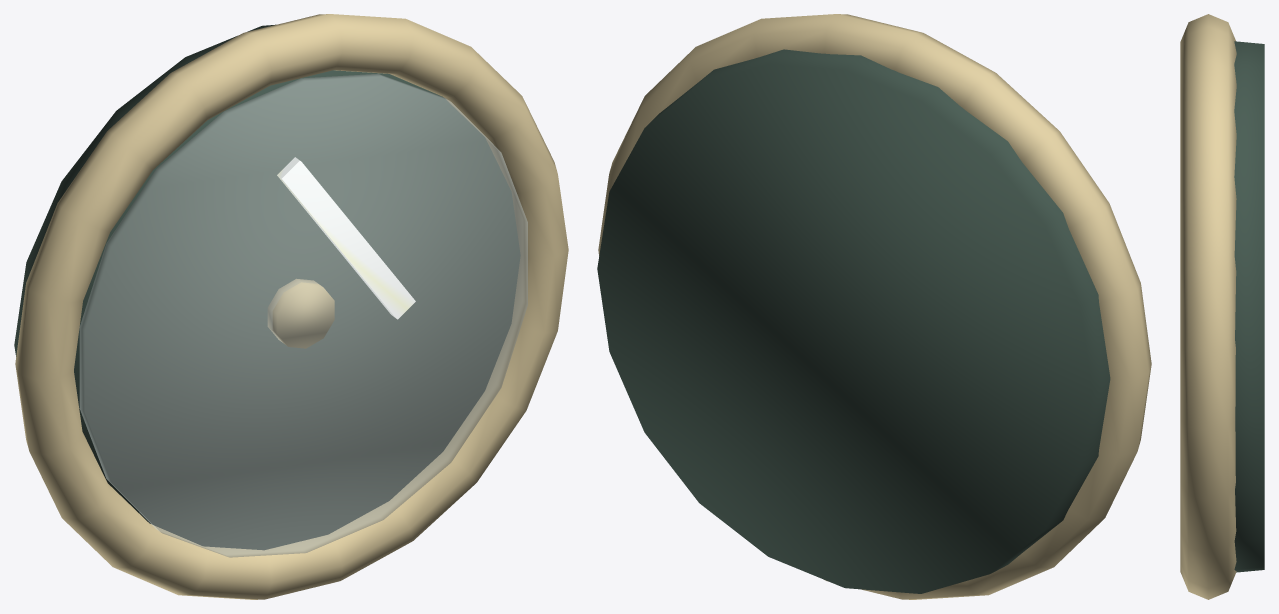
File: pressure-gauge.glb
The picture shows the model from 3 angles, left to right: view 1: azimuth 30°, elevation 25°; view 2: azimuth 150°, elevation 25°; view 3: azimuth 270°, elevation 25°; orthographic projection. The views are drawn at different scales.
Parts seen in each view (by area): view 1: PressureGauge; view 2: PressureGauge; view 3: PressureGauge.
Part boxes in pixels (left/top/right/bottom): PressureGauge: left=14, top=14, right=568, bottom=599; PressureGauge: left=597, top=14, right=1151, bottom=599; PressureGauge: left=1180, top=14, right=1264, bottom=599.
Size of the model in its own units: 0.292 by 0.289 by 0.042.
